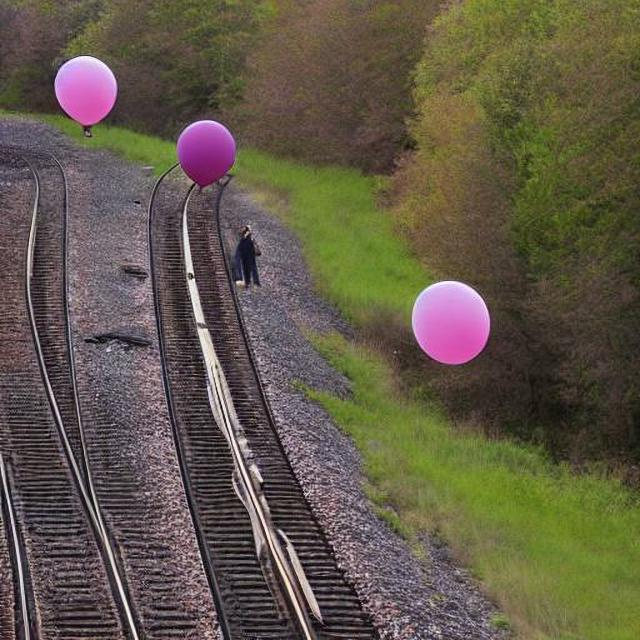balloon: (407, 277, 489, 363), (50, 52, 117, 130), (170, 115, 237, 193)
